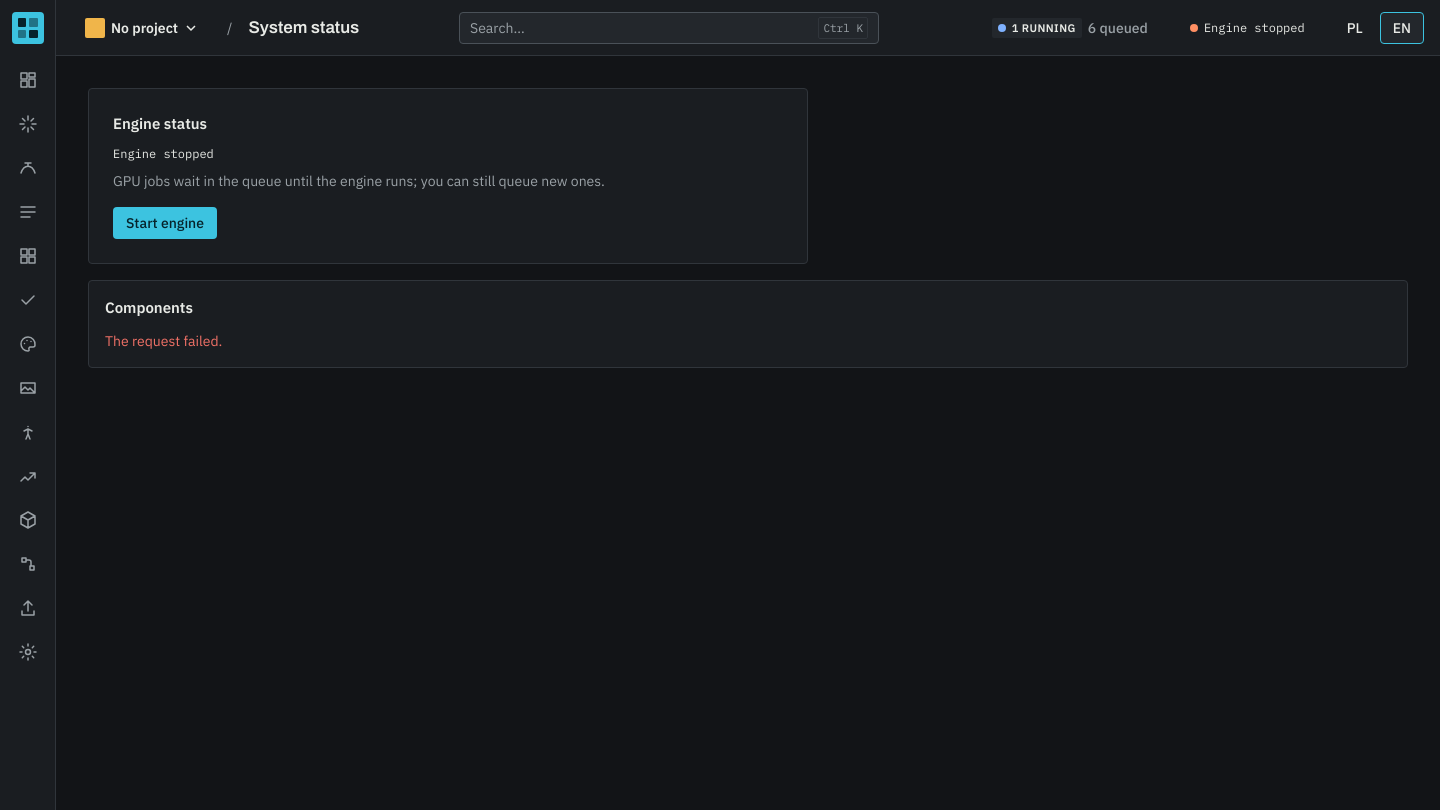
it: engine (FR-043) › starts a stopped engine from the system page
Check: the text "GPU jobs wait in the queue" is shown, box 113,172 -> 605,190
Step 1. Click the button "Start engine" → click(165, 223), box 113,207 -> 217,239
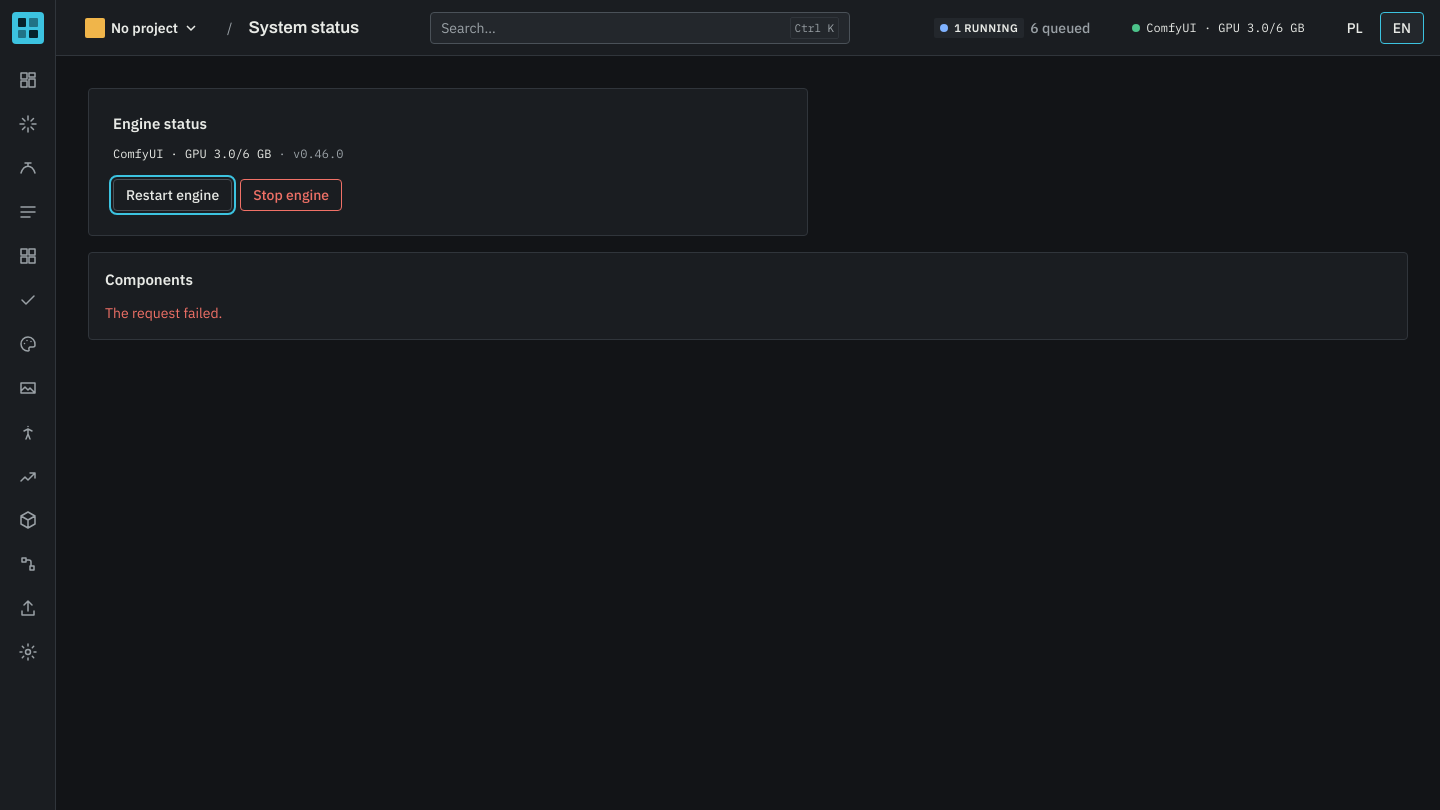
Check: the button "Stop engine" is shown, box 240,179 -> 342,211
